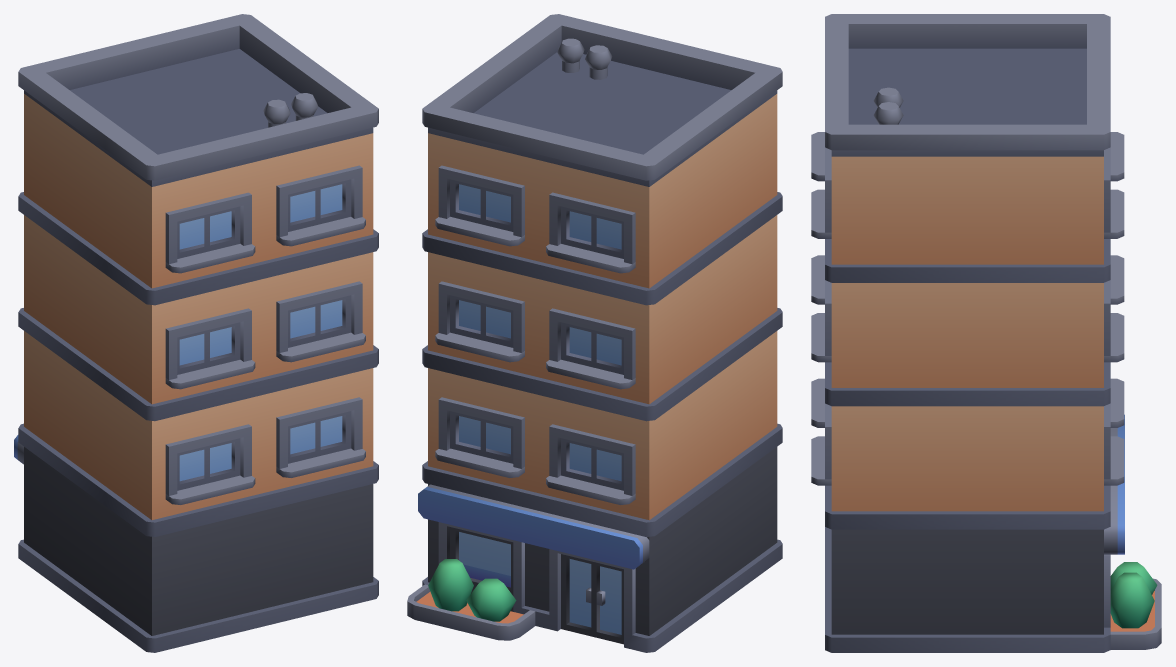
Rendered from building-f.glb.
The picture shows the model from 3 angles, left to right: view 1: azimuth 30°, elevation 25°; view 2: azimuth 150°, elevation 25°; view 3: azimuth 270°, elevation 25°; orthographic projection. The views are drawn at different scales.
Parts seen in each view (by area): view 1: building-f; view 2: building-f; view 3: building-f.
Boxes of the visible parts, <box> form: building-f: <box>14,14,378,652</box>; building-f: <box>407,14,782,652</box>; building-f: <box>811,14,1161,652</box>.
Bounding box in the file's own units: 0.84 × 1.69 × 1.03.
1 material, 1 textured.
